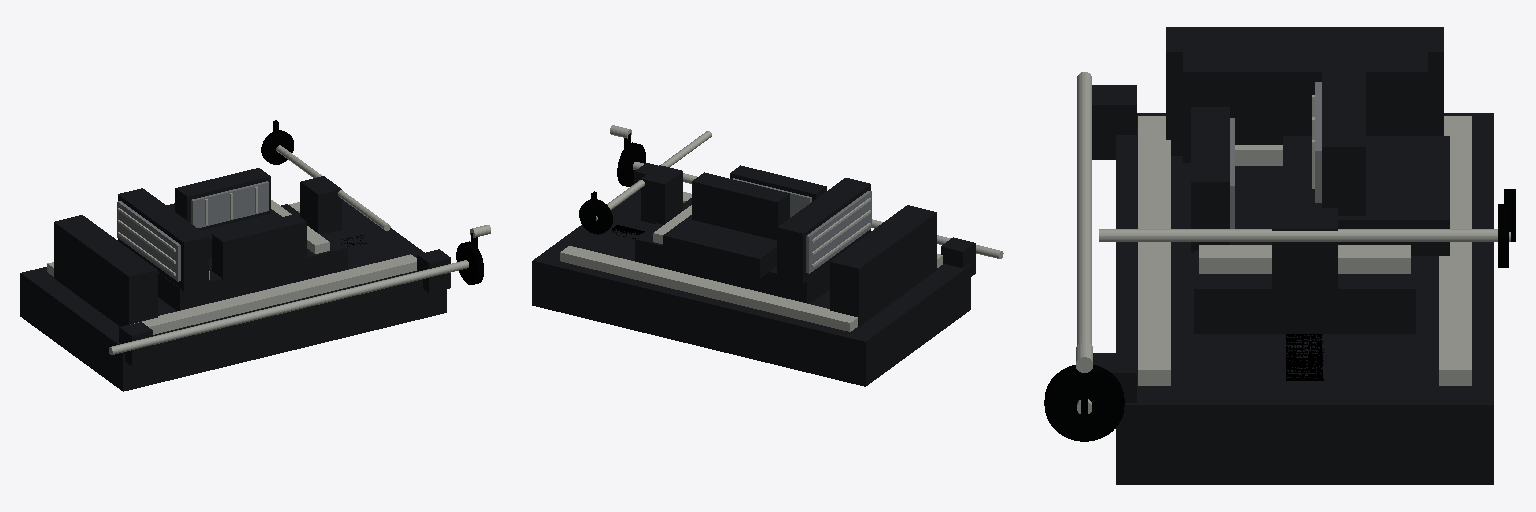
robot.urdf — cross_slide_milling_vise:
<robot name="cross_slide_milling_vise">
  <material name="dark_cast_iron">
    <color rgba="0.12 0.13 0.14 1" />
    </material>
  <material name="machined_steel">
    <color rgba="0.63 0.64 0.61 1" />
    </material>
  <material name="hardened_jaw_steel">
    <color rgba="0.46 0.48 0.49 1" />
    </material>
  <material name="black_oxide">
    <color rgba="0.02 0.022 0.025 1" />
    </material>
  <material name="oiled_slot">
    <color rgba="0.005 0.006 0.007 1" />
    </material>
  <link name="base">
    <visual name="base_block">
      <origin xyz="0 0 0.04" rpy="0 0 0" />
      <geometry>
        <box size="0.62 0.34 0.08" />
        </geometry>
      <material name="dark_cast_iron">
        <color rgba="0.12 0.13 0.14 1" />
        </material>
      </visual>
    <visual name="rear_x_way">
      <origin xyz="0 0.135 0.087" rpy="0 0 0" />
      <geometry>
        <box size="0.54 0.03 0.018" />
        </geometry>
      <material name="machined_steel">
        <color rgba="0.63 0.64 0.61 1" />
        </material>
      </visual>
    <visual name="front_x_way">
      <origin xyz="0 -0.135 0.087" rpy="0 0 0" />
      <geometry>
        <box size="0.54 0.03 0.018" />
        </geometry>
      <material name="machined_steel">
        <color rgba="0.63 0.64 0.61 1" />
        </material>
      </visual>
    <visual name="recessed_t_slot">
      <origin xyz="0.01 0 0.078" rpy="0 0 0" />
      <geometry>
        <box size="0.5 0.034 0.004" />
        </geometry>
      <material name="oiled_slot">
        <color rgba="0.005 0.006 0.007 1" />
        </material>
      </visual>
    <visual name="fixed_lower_jaw">
      <origin xyz="-0.245 0 0.1305" rpy="0 0 0" />
      <geometry>
        <box size="0.055 0.25 0.105" />
        </geometry>
      <material name="dark_cast_iron">
        <color rgba="0.12 0.13 0.14 1" />
        </material>
      </visual>
    <visual name="fixed_lower_plate">
      <origin xyz="-0.2145 0 0.136" rpy="0 0 0" />
      <geometry>
        <box size="0.006 0.22 0.072" />
        </geometry>
      <material name="hardened_jaw_steel">
        <color rgba="0.46 0.48 0.49 1" />
        </material>
      </visual>
    <visual name="fixed_lower_tooth_0">
      <origin xyz="-0.21 0 0.112" rpy="0 0 0" />
      <geometry>
        <box size="0.004 0.205 0.004" />
        </geometry>
      <material name="machined_steel">
        <color rgba="0.63 0.64 0.61 1" />
        </material>
      </visual>
    <visual name="fixed_lower_tooth_1">
      <origin xyz="-0.21 0 0.136" rpy="0 0 0" />
      <geometry>
        <box size="0.004 0.205 0.004" />
        </geometry>
      <material name="machined_steel">
        <color rgba="0.63 0.64 0.61 1" />
        </material>
      </visual>
    <visual name="fixed_lower_tooth_2">
      <origin xyz="-0.21 0 0.16" rpy="0 0 0" />
      <geometry>
        <box size="0.004 0.205 0.004" />
        </geometry>
      <material name="machined_steel">
        <color rgba="0.63 0.64 0.61 1" />
        </material>
      </visual>
    <visual name="x_screw_left_bearing">
      <origin xyz="-0.285 -0.171 0.082" rpy="0 0 0" />
      <geometry>
        <box size="0.042 0.04 0.055" />
        </geometry>
      <material name="dark_cast_iron">
        <color rgba="0.12 0.13 0.14 1" />
        </material>
      </visual>
    <visual name="x_screw_right_bearing">
      <origin xyz="0.285 -0.171 0.082" rpy="0 0 0" />
      <geometry>
        <box size="0.042 0.04 0.055" />
        </geometry>
      <material name="dark_cast_iron">
        <color rgba="0.12 0.13 0.14 1" />
        </material>
      </visual>
    <visual name="x_lead_screw">
      <origin xyz="0 -0.198 0.095" rpy="0 1.5708 0" />
      <geometry>
        <cylinder radius="0.007" length="0.7" />
        </geometry>
      <material name="machined_steel">
        <color rgba="0.63 0.64 0.61 1" />
        </material>
      </visual>
    <visual name="x_handwheel">
      <origin xyz="0.338 -0.198 0.095" rpy="0 1.5708 0" />
      <geometry>
        <cylinder radius="0.036" length="0.012" />
        </geometry>
      <material name="black_oxide">
        <color rgba="0.02 0.022 0.025 1" />
        </material>
      </visual>
    <visual name="x_wheel_spoke">
      <origin xyz="0.346 -0.198 0.119" rpy="0 0 0" />
      <geometry>
        <box size="0.01 0.007 0.06" />
        </geometry>
      <material name="black_oxide">
        <color rgba="0.02 0.022 0.025 1" />
        </material>
      </visual>
    <visual name="x_crank_knob">
      <origin xyz="0.358 -0.198 0.149" rpy="0 1.5708 0" />
      <geometry>
        <cylinder radius="0.008" length="0.032" />
        </geometry>
      <material name="machined_steel">
        <color rgba="0.63 0.64 0.61 1" />
        </material>
      </visual>
    <collision name="base_block">
      <origin xyz="0 0 0.04" rpy="0 0 0" />
      <geometry>
        <box size="0.62 0.34 0.08" />
        </geometry>
      </collision>
    <collision name="rear_x_way">
      <origin xyz="0 0.135 0.087" rpy="0 0 0" />
      <geometry>
        <box size="0.54 0.03 0.018" />
        </geometry>
      </collision>
    <collision name="front_x_way">
      <origin xyz="0 -0.135 0.087" rpy="0 0 0" />
      <geometry>
        <box size="0.54 0.03 0.018" />
        </geometry>
      </collision>
    <collision name="recessed_t_slot">
      <origin xyz="0.01 0 0.078" rpy="0 0 0" />
      <geometry>
        <box size="0.5 0.034 0.004" />
        </geometry>
      </collision>
    <collision name="fixed_lower_jaw">
      <origin xyz="-0.245 0 0.1305" rpy="0 0 0" />
      <geometry>
        <box size="0.055 0.25 0.105" />
        </geometry>
      </collision>
    <collision name="fixed_lower_plate">
      <origin xyz="-0.2145 0 0.136" rpy="0 0 0" />
      <geometry>
        <box size="0.006 0.22 0.072" />
        </geometry>
      </collision>
    <collision name="fixed_lower_tooth_0">
      <origin xyz="-0.21 0 0.112" rpy="0 0 0" />
      <geometry>
        <box size="0.004 0.205 0.004" />
        </geometry>
      </collision>
    <collision name="fixed_lower_tooth_1">
      <origin xyz="-0.21 0 0.136" rpy="0 0 0" />
      <geometry>
        <box size="0.004 0.205 0.004" />
        </geometry>
      </collision>
    <collision name="fixed_lower_tooth_2">
      <origin xyz="-0.21 0 0.16" rpy="0 0 0" />
      <geometry>
        <box size="0.004 0.205 0.004" />
        </geometry>
      </collision>
    <collision name="x_screw_left_bearing">
      <origin xyz="-0.285 -0.171 0.082" rpy="0 0 0" />
      <geometry>
        <box size="0.042 0.04 0.055" />
        </geometry>
      </collision>
    <collision name="x_screw_right_bearing">
      <origin xyz="0.285 -0.171 0.082" rpy="0 0 0" />
      <geometry>
        <box size="0.042 0.04 0.055" />
        </geometry>
      </collision>
    <collision name="x_lead_screw">
      <origin xyz="0 -0.198 0.095" rpy="0 1.5708 0" />
      <geometry>
        <cylinder radius="0.007" length="0.7" />
        </geometry>
      </collision>
    <collision name="x_handwheel">
      <origin xyz="0.338 -0.198 0.095" rpy="0 1.5708 0" />
      <geometry>
        <cylinder radius="0.036" length="0.012" />
        </geometry>
      </collision>
    <collision name="x_wheel_spoke">
      <origin xyz="0.346 -0.198 0.119" rpy="0 0 0" />
      <geometry>
        <box size="0.01 0.007 0.06" />
        </geometry>
      </collision>
    <collision name="x_crank_knob">
      <origin xyz="0.358 -0.198 0.149" rpy="0 1.5708 0" />
      <geometry>
        <cylinder radius="0.008" length="0.032" />
        </geometry>
      </collision>
    </link>
  <link name="lower_jaw">
    <visual name="lower_saddle">
      <origin xyz="0 0 0.0225" rpy="0 0 0" />
      <geometry>
        <box size="0.32 0.2 0.045" />
        </geometry>
      <material name="dark_cast_iron">
        <color rgba="0.12 0.13 0.14 1" />
        </material>
      </visual>
    <visual name="moving_lower_jaw">
      <origin xyz="-0.135 0 0.088" rpy="0 0 0" />
      <geometry>
        <box size="0.048 0.22 0.09" />
        </geometry>
      <material name="dark_cast_iron">
        <color rgba="0.12 0.13 0.14 1" />
        </material>
      </visual>
    <visual name="moving_lower_plate">
      <origin xyz="-0.162 0 0.092" rpy="0 0 0" />
      <geometry>
        <box size="0.006 0.2 0.066" />
        </geometry>
      <material name="hardened_jaw_steel">
        <color rgba="0.46 0.48 0.49 1" />
        </material>
      </visual>
    <visual name="moving_lower_tooth_0">
      <origin xyz="-0.166 0 0.07" rpy="0 0 0" />
      <geometry>
        <box size="0.004 0.188 0.004" />
        </geometry>
      <material name="machined_steel">
        <color rgba="0.63 0.64 0.61 1" />
        </material>
      </visual>
    <visual name="moving_lower_tooth_1">
      <origin xyz="-0.166 0 0.092" rpy="0 0 0" />
      <geometry>
        <box size="0.004 0.188 0.004" />
        </geometry>
      <material name="machined_steel">
        <color rgba="0.63 0.64 0.61 1" />
        </material>
      </visual>
    <visual name="moving_lower_tooth_2">
      <origin xyz="-0.166 0 0.114" rpy="0 0 0" />
      <geometry>
        <box size="0.004 0.188 0.004" />
        </geometry>
      <material name="machined_steel">
        <color rgba="0.63 0.64 0.61 1" />
        </material>
      </visual>
    <visual name="left_y_way">
      <origin xyz="-0.115 0 0.052" rpy="0 0 0" />
      <geometry>
        <box size="0.028 0.19 0.018" />
        </geometry>
      <material name="machined_steel">
        <color rgba="0.63 0.64 0.61 1" />
        </material>
      </visual>
    <visual name="right_y_way">
      <origin xyz="0.115 0 0.052" rpy="0 0 0" />
      <geometry>
        <box size="0.028 0.19 0.018" />
        </geometry>
      <material name="machined_steel">
        <color rgba="0.63 0.64 0.61 1" />
        </material>
      </visual>
    <visual name="fixed_upper_jaw">
      <origin xyz="0 -0.085 0.078" rpy="0 0 0" />
      <geometry>
        <box size="0.16 0.035 0.07" />
        </geometry>
      <material name="dark_cast_iron">
        <color rgba="0.12 0.13 0.14 1" />
        </material>
      </visual>
    <visual name="fixed_upper_plate">
      <origin xyz="0 -0.066 0.08" rpy="0 0 0" />
      <geometry>
        <box size="0.145 0.006 0.052" />
        </geometry>
      <material name="hardened_jaw_steel">
        <color rgba="0.46 0.48 0.49 1" />
        </material>
      </visual>
    <visual name="y_screw_bearing">
      <origin xyz="0.167 0 0.08" rpy="0 0 0" />
      <geometry>
        <box size="0.045 0.06 0.075" />
        </geometry>
      <material name="dark_cast_iron">
        <color rgba="0.12 0.13 0.14 1" />
        </material>
      </visual>
    <visual name="y_lead_screw">
      <origin xyz="0.187 0 0.11" rpy="-1.5708 0 0" />
      <geometry>
        <cylinder radius="0.006" length="0.37" />
        </geometry>
      <material name="machined_steel">
        <color rgba="0.63 0.64 0.61 1" />
        </material>
      </visual>
    <visual name="y_handwheel">
      <origin xyz="0.187 0.178 0.11" rpy="-1.5708 0 0" />
      <geometry>
        <cylinder radius="0.029" length="0.01" />
        </geometry>
      <material name="black_oxide">
        <color rgba="0.02 0.022 0.025 1" />
        </material>
      </visual>
    <visual name="y_wheel_spoke">
      <origin xyz="0.187 0.184 0.13" rpy="0 0 0" />
      <geometry>
        <box size="0.006 0.01 0.05" />
        </geometry>
      <material name="black_oxide">
        <color rgba="0.02 0.022 0.025 1" />
        </material>
      </visual>
    <collision name="lower_saddle">
      <origin xyz="0 0 0.0225" rpy="0 0 0" />
      <geometry>
        <box size="0.32 0.2 0.045" />
        </geometry>
      </collision>
    <collision name="moving_lower_jaw">
      <origin xyz="-0.135 0 0.088" rpy="0 0 0" />
      <geometry>
        <box size="0.048 0.22 0.09" />
        </geometry>
      </collision>
    <collision name="moving_lower_plate">
      <origin xyz="-0.162 0 0.092" rpy="0 0 0" />
      <geometry>
        <box size="0.006 0.2 0.066" />
        </geometry>
      </collision>
    <collision name="moving_lower_tooth_0">
      <origin xyz="-0.166 0 0.07" rpy="0 0 0" />
      <geometry>
        <box size="0.004 0.188 0.004" />
        </geometry>
      </collision>
    <collision name="moving_lower_tooth_1">
      <origin xyz="-0.166 0 0.092" rpy="0 0 0" />
      <geometry>
        <box size="0.004 0.188 0.004" />
        </geometry>
      </collision>
    <collision name="moving_lower_tooth_2">
      <origin xyz="-0.166 0 0.114" rpy="0 0 0" />
      <geometry>
        <box size="0.004 0.188 0.004" />
        </geometry>
      </collision>
    <collision name="left_y_way">
      <origin xyz="-0.115 0 0.052" rpy="0 0 0" />
      <geometry>
        <box size="0.028 0.19 0.018" />
        </geometry>
      </collision>
    <collision name="right_y_way">
      <origin xyz="0.115 0 0.052" rpy="0 0 0" />
      <geometry>
        <box size="0.028 0.19 0.018" />
        </geometry>
      </collision>
    <collision name="fixed_upper_jaw">
      <origin xyz="0 -0.085 0.078" rpy="0 0 0" />
      <geometry>
        <box size="0.16 0.035 0.07" />
        </geometry>
      </collision>
    <collision name="fixed_upper_plate">
      <origin xyz="0 -0.066 0.08" rpy="0 0 0" />
      <geometry>
        <box size="0.145 0.006 0.052" />
        </geometry>
      </collision>
    <collision name="y_screw_bearing">
      <origin xyz="0.167 0 0.08" rpy="0 0 0" />
      <geometry>
        <box size="0.045 0.06 0.075" />
        </geometry>
      </collision>
    <collision name="y_lead_screw">
      <origin xyz="0.187 0 0.11" rpy="-1.5708 0 0" />
      <geometry>
        <cylinder radius="0.006" length="0.37" />
        </geometry>
      </collision>
    <collision name="y_handwheel">
      <origin xyz="0.187 0.178 0.11" rpy="-1.5708 0 0" />
      <geometry>
        <cylinder radius="0.029" length="0.01" />
        </geometry>
      </collision>
    <collision name="y_wheel_spoke">
      <origin xyz="0.187 0.184 0.13" rpy="0 0 0" />
      <geometry>
        <box size="0.006 0.01 0.05" />
        </geometry>
      </collision>
    </link>
  <link name="upper_jaw">
    <visual name="upper_table">
      <origin xyz="0 0.055 0.0175" rpy="0 0 0" />
      <geometry>
        <box size="0.18 0.15 0.035" />
        </geometry>
      <material name="dark_cast_iron">
        <color rgba="0.12 0.13 0.14 1" />
        </material>
      </visual>
    <visual name="moving_upper_jaw">
      <origin xyz="0 0.035 0.068" rpy="0 0 0" />
      <geometry>
        <box size="0.16 0.04 0.07" />
        </geometry>
      <material name="dark_cast_iron">
        <color rgba="0.12 0.13 0.14 1" />
        </material>
      </visual>
    <visual name="moving_upper_plate">
      <origin xyz="0 0.012 0.07" rpy="0 0 0" />
      <geometry>
        <box size="0.145 0.006 0.052" />
        </geometry>
      <material name="hardened_jaw_steel">
        <color rgba="0.46 0.48 0.49 1" />
        </material>
      </visual>
    <visual name="upper_tooth_0">
      <origin xyz="-0.048 0.008 0.071" rpy="0 0 0" />
      <geometry>
        <box size="0.005 0.004 0.046" />
        </geometry>
      <material name="machined_steel">
        <color rgba="0.63 0.64 0.61 1" />
        </material>
      </visual>
    <visual name="upper_tooth_1">
      <origin xyz="0 0.008 0.071" rpy="0 0 0" />
      <geometry>
        <box size="0.005 0.004 0.046" />
        </geometry>
      <material name="machined_steel">
        <color rgba="0.63 0.64 0.61 1" />
        </material>
      </visual>
    <visual name="upper_tooth_2">
      <origin xyz="0.048 0.008 0.071" rpy="0 0 0" />
      <geometry>
        <box size="0.005 0.004 0.046" />
        </geometry>
      <material name="machined_steel">
        <color rgba="0.63 0.64 0.61 1" />
        </material>
      </visual>
    <collision name="upper_table">
      <origin xyz="0 0.055 0.0175" rpy="0 0 0" />
      <geometry>
        <box size="0.18 0.15 0.035" />
        </geometry>
      </collision>
    <collision name="moving_upper_jaw">
      <origin xyz="0 0.035 0.068" rpy="0 0 0" />
      <geometry>
        <box size="0.16 0.04 0.07" />
        </geometry>
      </collision>
    <collision name="moving_upper_plate">
      <origin xyz="0 0.012 0.07" rpy="0 0 0" />
      <geometry>
        <box size="0.145 0.006 0.052" />
        </geometry>
      </collision>
    <collision name="upper_tooth_0">
      <origin xyz="-0.048 0.008 0.071" rpy="0 0 0" />
      <geometry>
        <box size="0.005 0.004 0.046" />
        </geometry>
      </collision>
    <collision name="upper_tooth_1">
      <origin xyz="0 0.008 0.071" rpy="0 0 0" />
      <geometry>
        <box size="0.005 0.004 0.046" />
        </geometry>
      </collision>
    <collision name="upper_tooth_2">
      <origin xyz="0.048 0.008 0.071" rpy="0 0 0" />
      <geometry>
        <box size="0.005 0.004 0.046" />
        </geometry>
      </collision>
    </link>
  <joint name="x_cross_slide" type="prismatic">
    <origin xyz="0 0 0.08" rpy="0 0 0" />
    <parent link="base" />
    <child link="lower_jaw" />
    <axis xyz="1 0 0" />
    <limit effort="250" velocity="0.1" lower="0" upper="0.12" />
    </joint>
  <joint name="y_upper_slide" type="prismatic">
    <origin xyz="0 0 0.045" rpy="0 0 0" />
    <parent link="lower_jaw" />
    <child link="upper_jaw" />
    <axis xyz="0 1 0" />
    <limit effort="180" velocity="0.08" lower="-0.075" upper="0.06" />
    </joint>
  </robot>

--- Facts derived from the render (not from the file) ---
Views: 3 orthographic renders of the robot side by side, from view 1: azimuth 30°, elevation 25°; view 2: azimuth 150°, elevation 25°; view 3: azimuth 270°, elevation 25°.
Robot: cross_slide_milling_vise — 3 links, 2 joints (2 prismatic); root link base; default pose: all joints at 0.
Links seen in each view (by area): view 1: base, lower_jaw, upper_jaw; view 2: base, lower_jaw, upper_jaw; view 3: base, lower_jaw, upper_jaw.
Boxes of the visible links, box(x1,y1,x2,y2) form: base: box(20, 199, 490, 391); lower_jaw: box(117, 120, 390, 310); upper_jaw: box(166, 168, 281, 257); base: box(532, 125, 1003, 386); lower_jaw: box(579, 131, 871, 303); upper_jaw: box(663, 172, 789, 278); base: box(1044, 27, 1493, 484); lower_jaw: box(1099, 50, 1515, 333); upper_jaw: box(1283, 72, 1449, 255).
Size in the robot's own frame: 0.724 by 0.423 by 0.235 metres.
Geometry: primitives only (box / cylinder / sphere), no mesh files.
